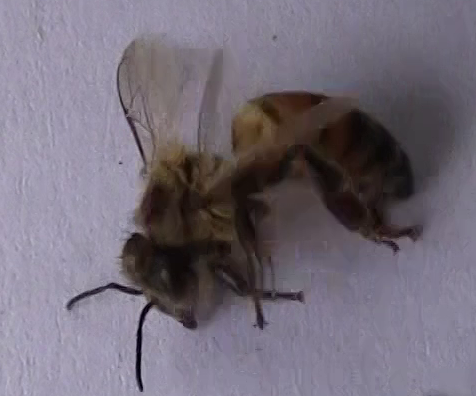Varroa destructor: (137, 184, 170, 225)
